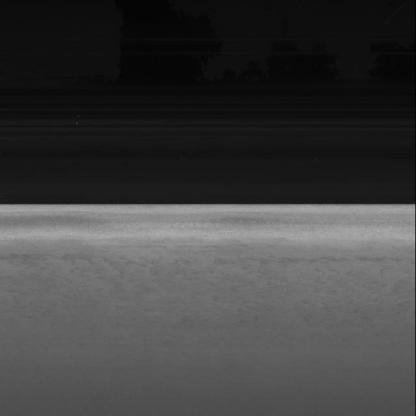silk_spot: (66, 243, 178, 300)
